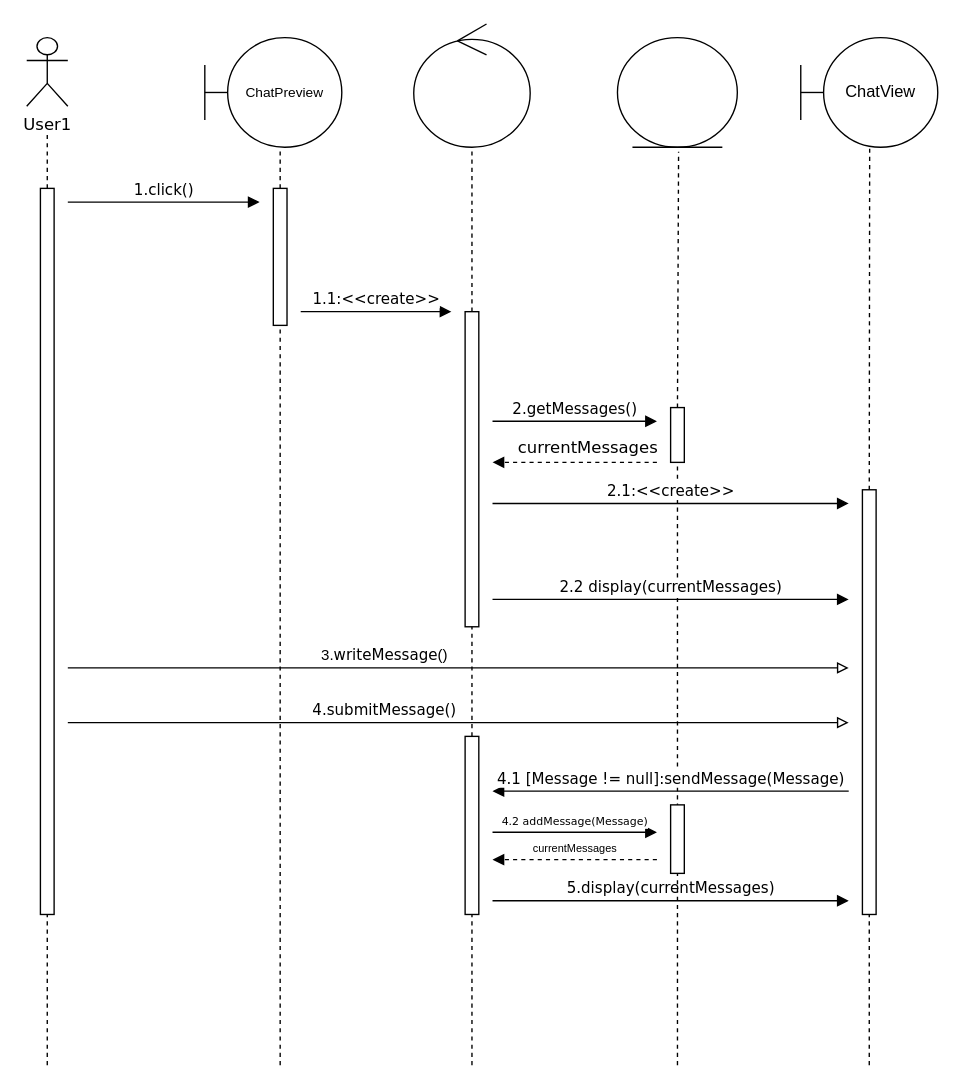
This 962x1091 diagram has some shape labels left out. The shapes that lost their labels are listed below. From the top down, each one's centre as x and y in pixels, then its label:
At [471,85]: "ChatControl".
At [676,91]: "Chat".
